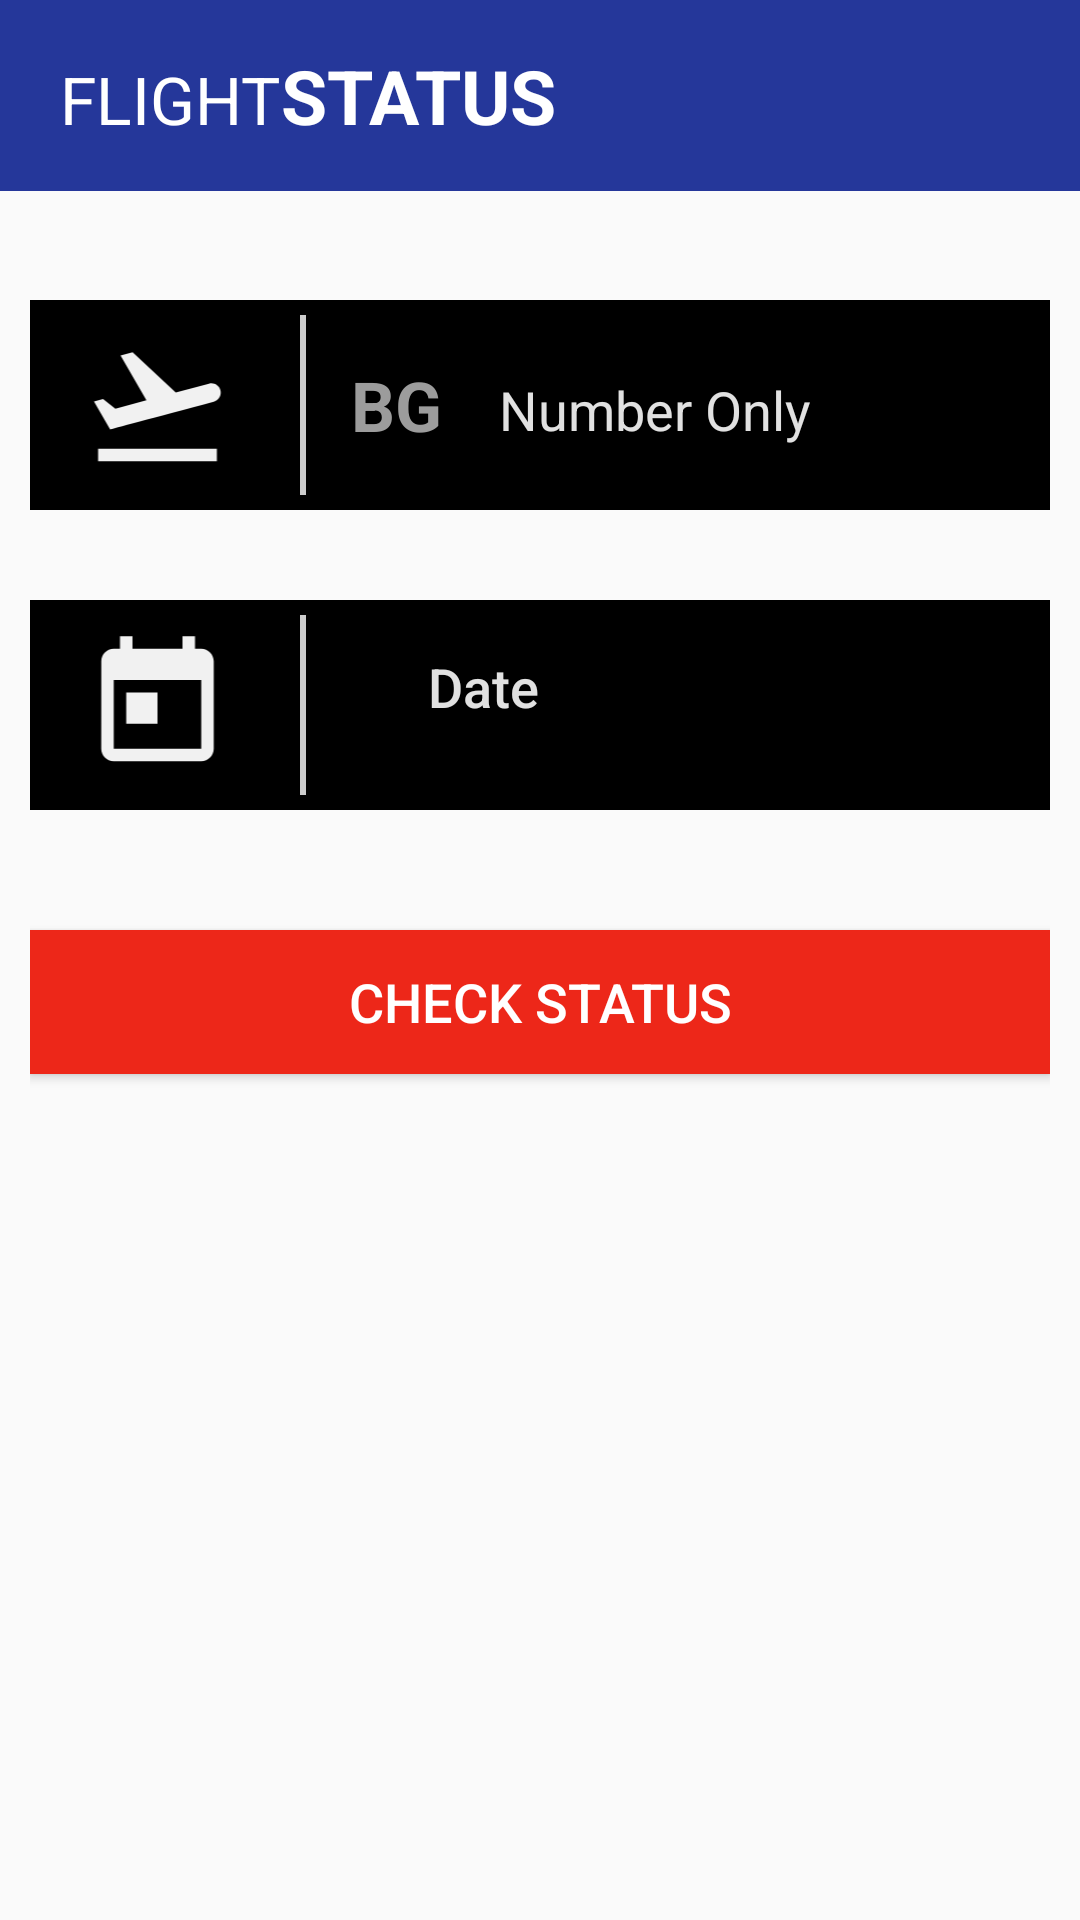

Named icons in this screenshot (1080 × 1920) and their bounding boxes, (x1, y1, x2, y2):
flight takeoff: (93, 352, 222, 462)
today: (100, 636, 215, 762)
